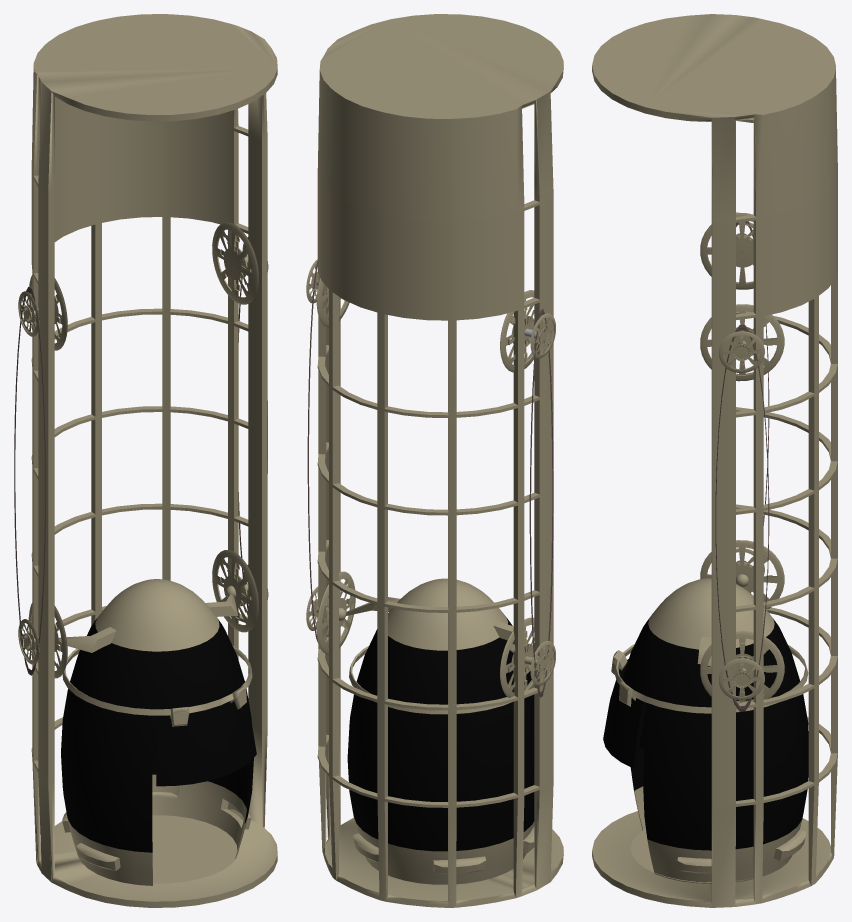
File: lift.fbx
3 views of the same model, side by side, from view 1: azimuth 30°, elevation 25°; view 2: azimuth 150°, elevation 25°; view 3: azimuth 270°, elevation 25° (orthographic).
Parts seen in each view (by area): view 1: Cylinder001, Sphere068, group1; view 2: Cylinder001, Sphere068, group1; view 3: Cylinder001, Sphere068, group1.
Part boxes in pixels (x1,y1,x2,y2): Cylinder001: (31,14,277,907); Sphere068: (58,579,253,885); group1: (14,222,268,883); Cylinder001: (317,14,563,907); Sphere068: (346,578,534,884); group1: (306,259,555,714); Cylinder001: (592,14,837,907); Sphere068: (622,578,808,883); group1: (603,213,808,882).
Size of the model in its own units: 325 by 1066 by 300.
